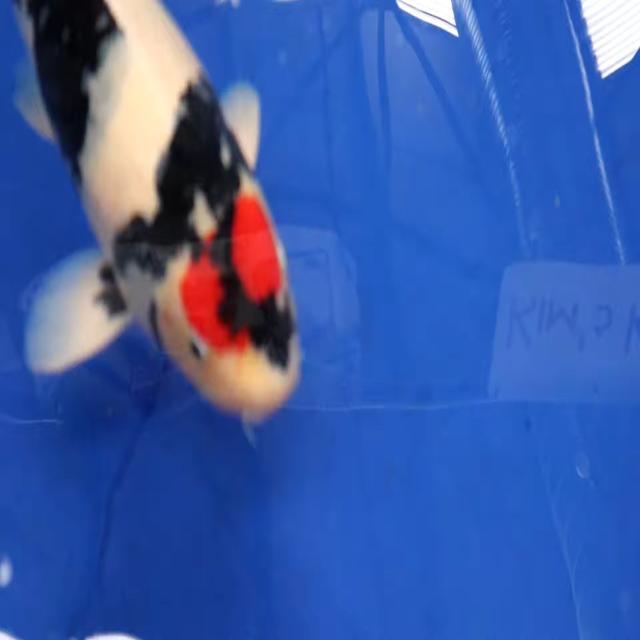Showa: (11, 0, 302, 443)
